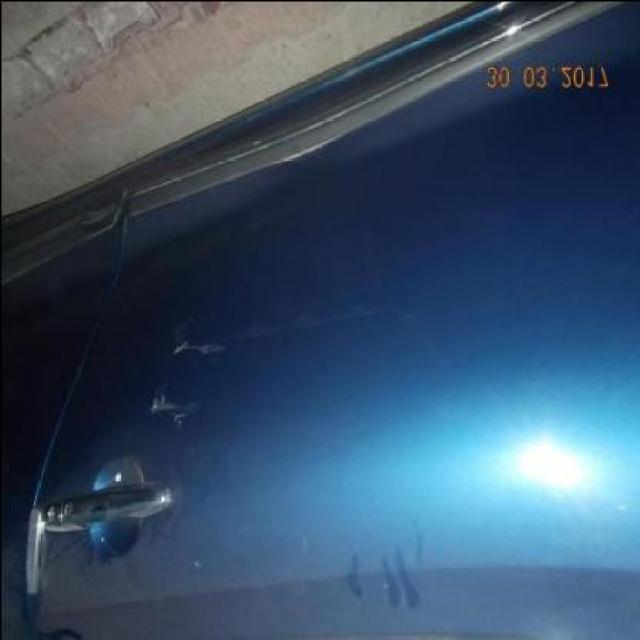damage: (169, 330, 224, 372), (150, 391, 191, 421)
